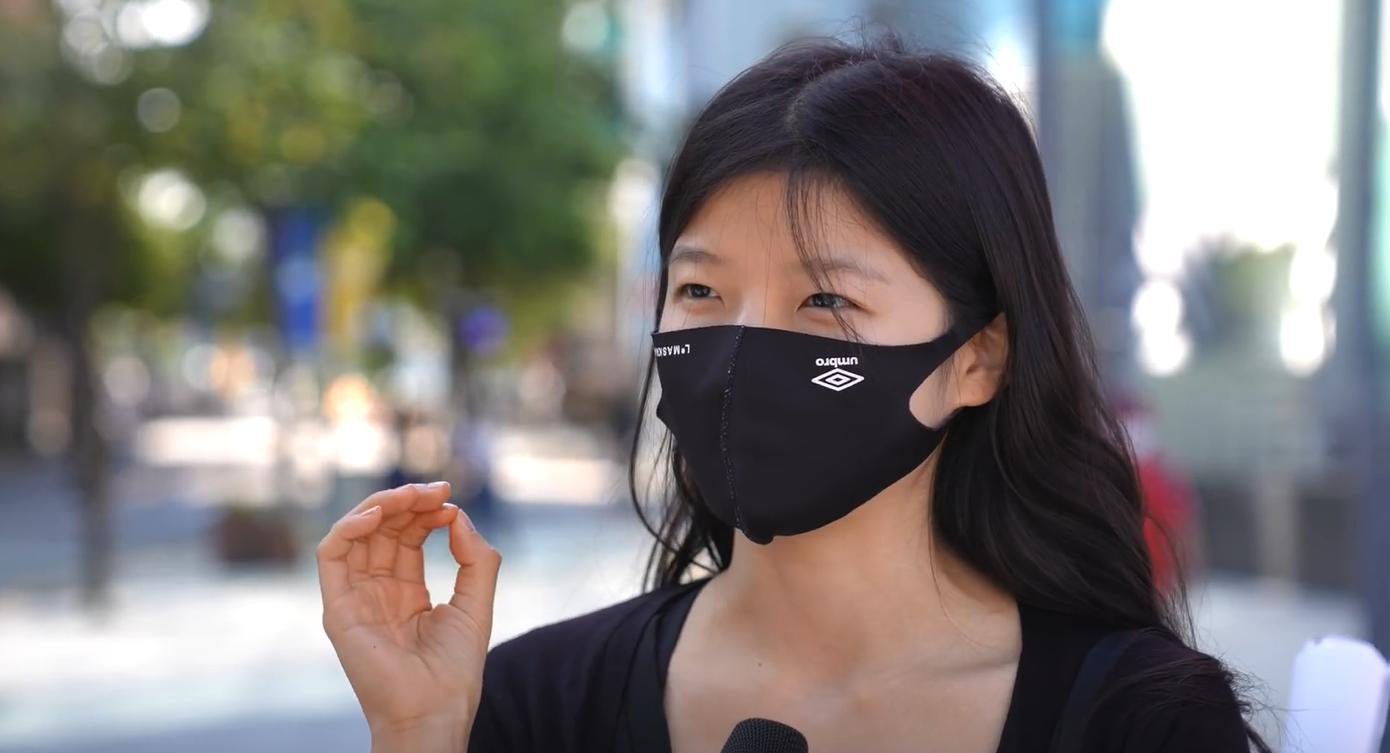with_mask: (688, 252, 898, 494)
